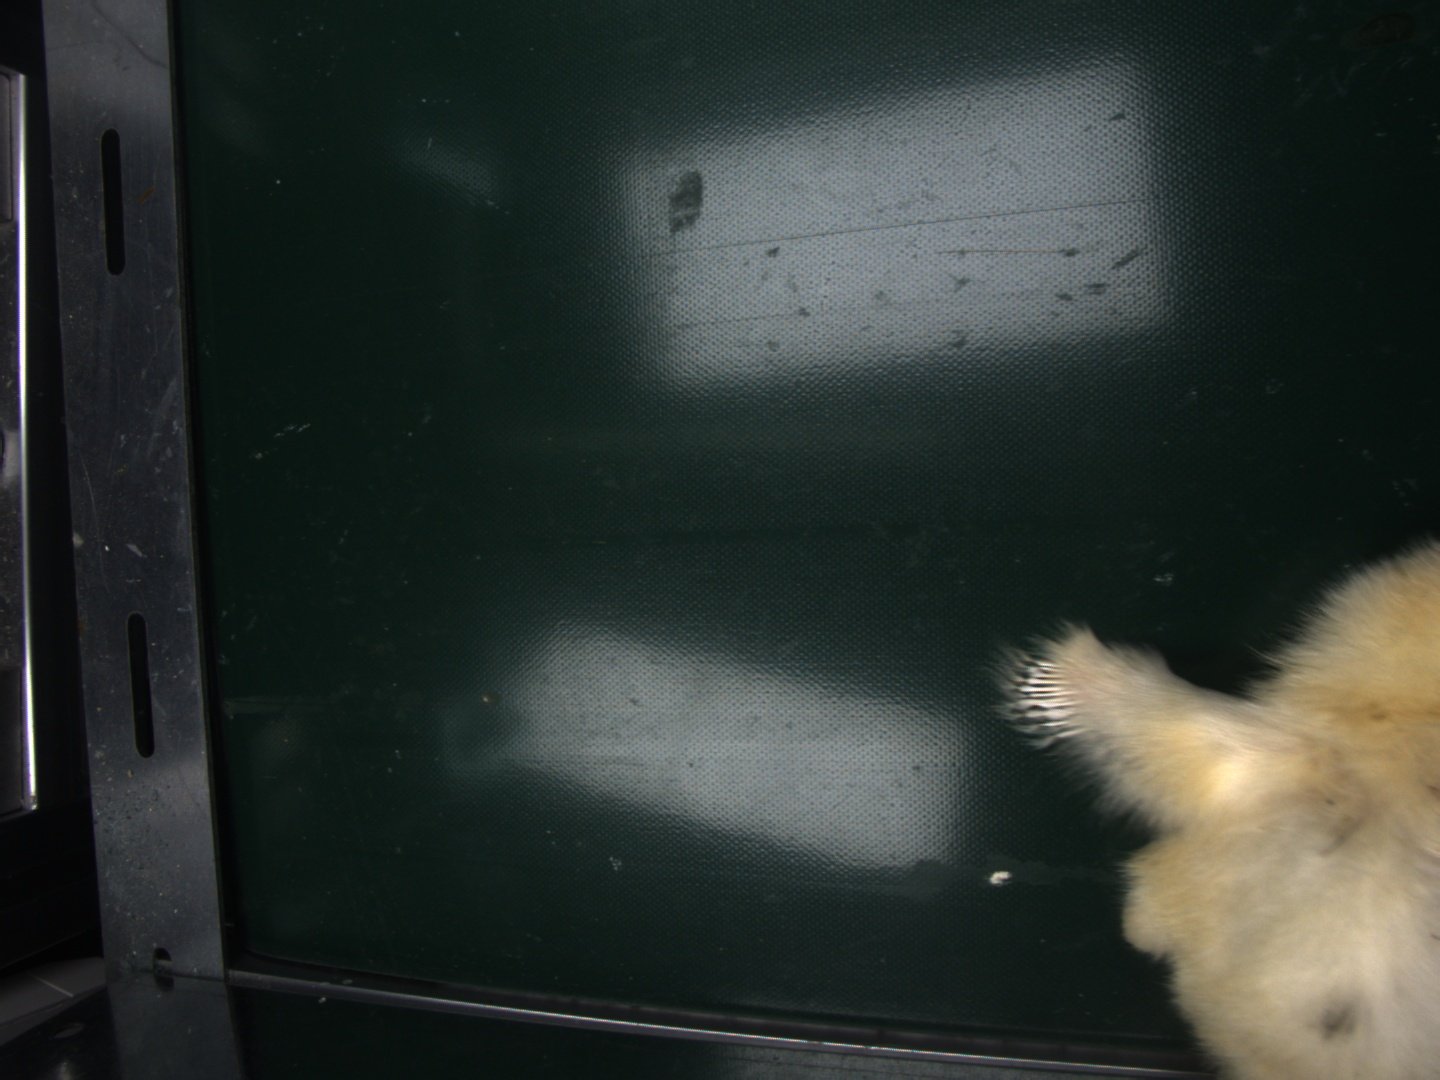male: (1014, 653, 1083, 742)
